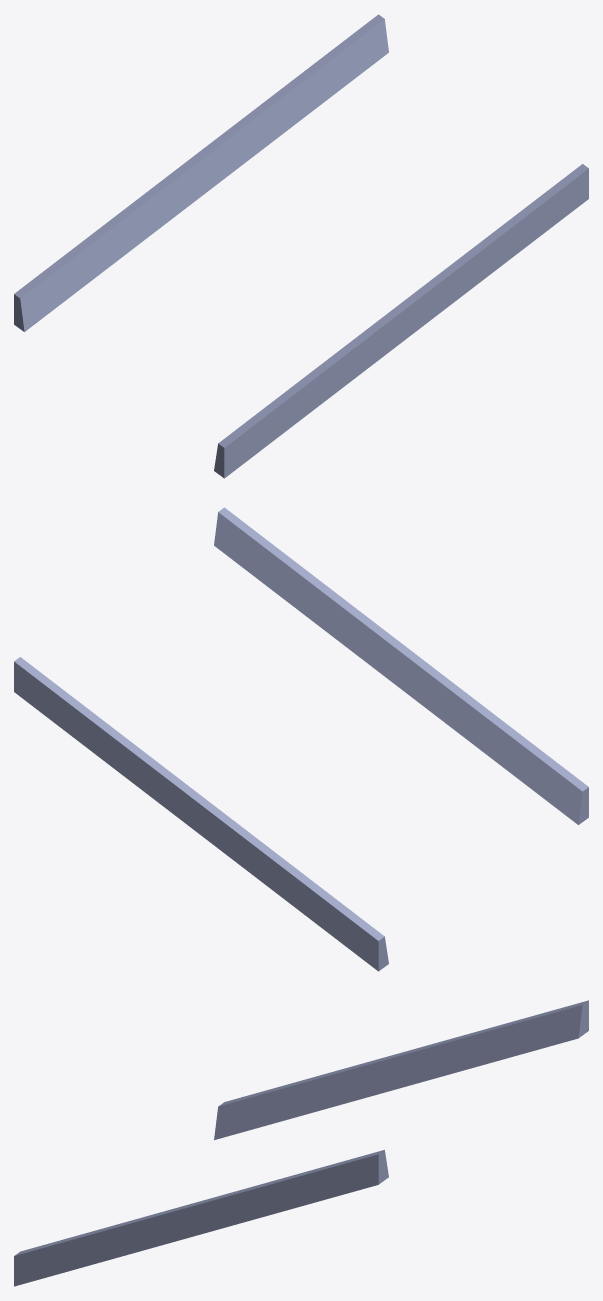
Rendered from road-slant-high-barrier.glb.
3 views of the same model, one above another, from view 1: azimuth 30°, elevation 25°; view 2: azimuth 150°, elevation 25°; view 3: azimuth 330°, elevation 25° (orthographic).
Parts seen in each view (by area): view 1: road-slant-high-barrier; view 2: road-slant-high-barrier; view 3: road-slant-high-barrier.
Boxes of the visible parts, bbox=[...] form: road-slant-high-barrier: bbox=[14, 14, 588, 478]; road-slant-high-barrier: bbox=[14, 507, 588, 971]; road-slant-high-barrier: bbox=[14, 1000, 588, 1286].
Bounding box in the file's own units: 1 × 0.58 × 1.
1 material, 1 textured.
